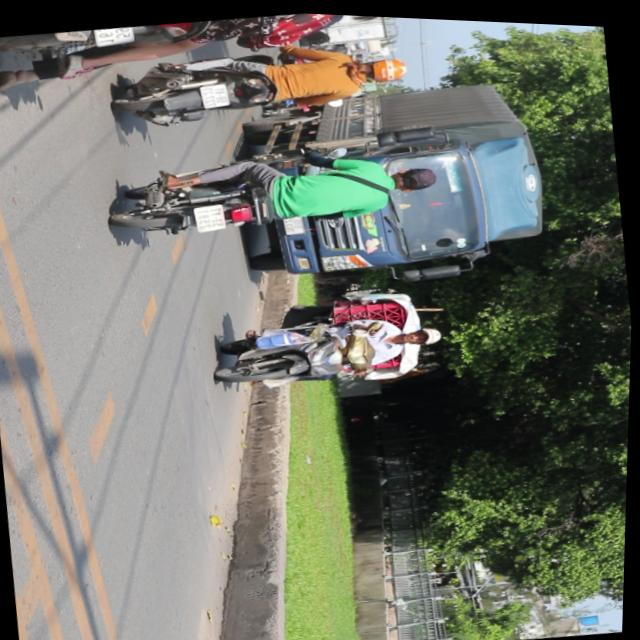helmet: (359, 51, 409, 84), (401, 321, 443, 346)
licenseplate: (105, 127, 451, 257), (0, 0, 428, 91), (109, 24, 414, 140), (210, 299, 451, 401)
motorcyclist: (392, 160, 440, 191)
nohelmet: (193, 201, 226, 232), (93, 24, 136, 46), (199, 80, 232, 108)
